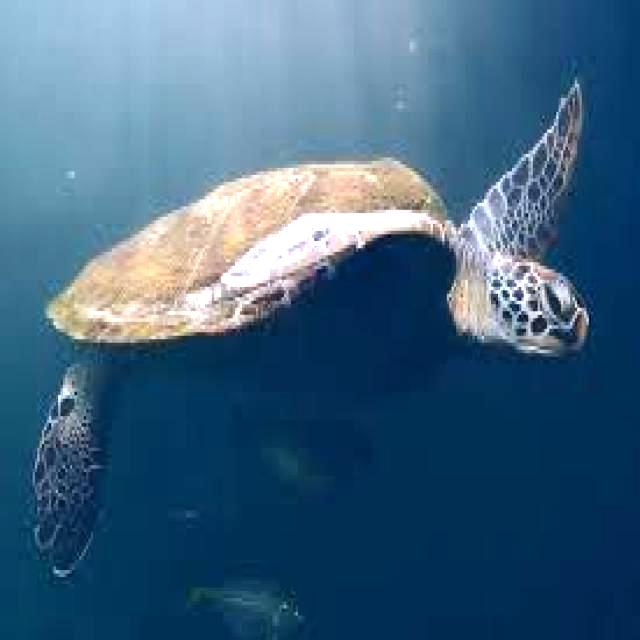Sea turtle: (26, 70, 598, 573)
